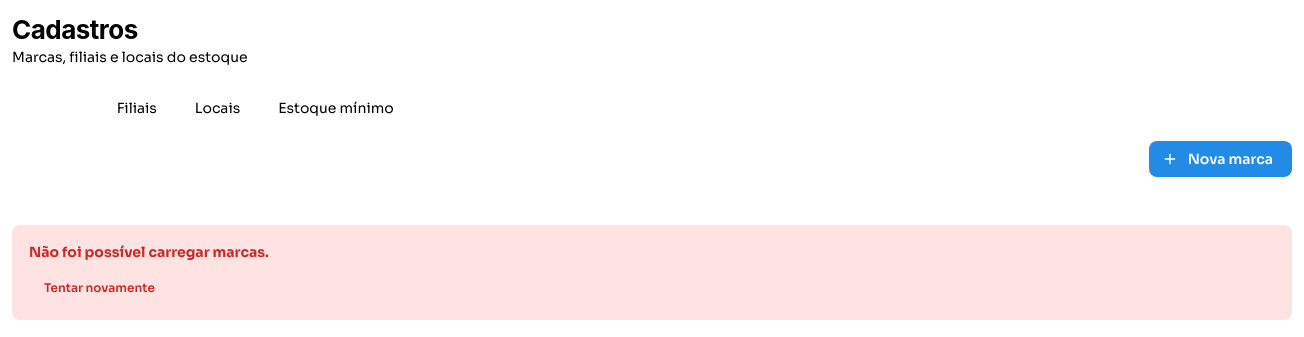
Test: Cadastros states › error, then retry recovers
Expected: the text "Não foi possível carregar marcas." is shown, [29,242,269,263]
Click the button "Tentar novamente".
click(99, 288)  # box [29,273,170,303]
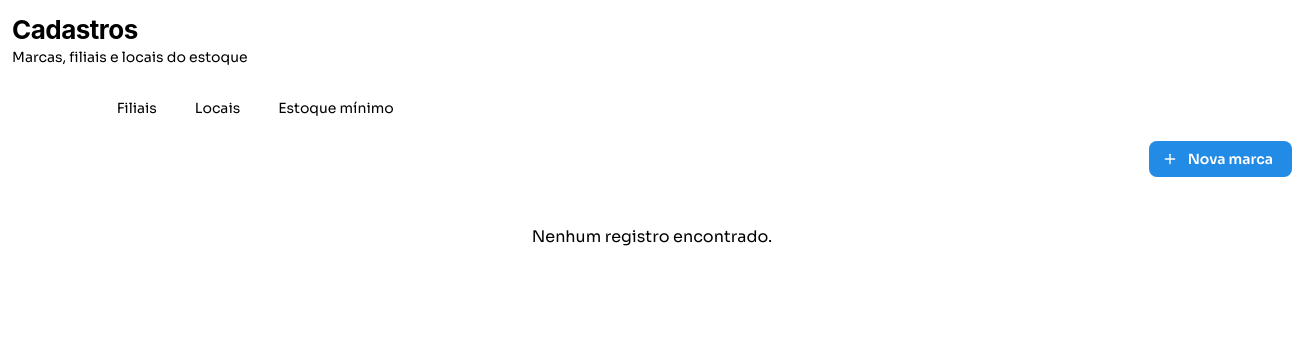
Expected: the text "carregar marcas" is gone
Expected: the text "Nenhum registro encontrado." is shown, [532,226,772,247]
